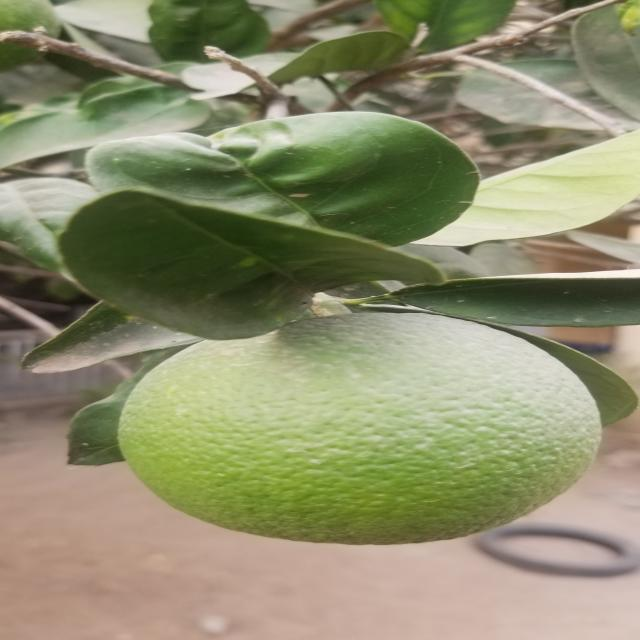Unripe: (114, 306, 617, 543)
